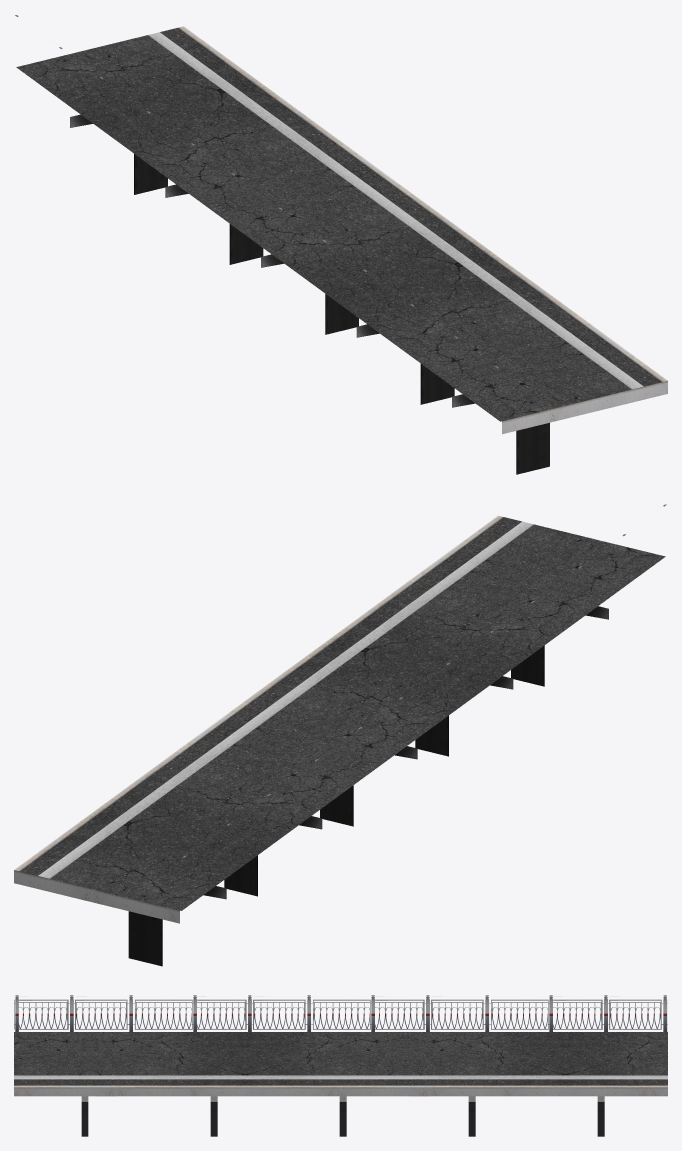
The model's file is platform_uz_L20_zab.gltf.
3 renders of one model, top to bottom at view 1: azimuth 30°, elevation 25°; view 2: azimuth 150°, elevation 25°; view 3: azimuth 270°, elevation 25°, orthographic. The views are drawn at different scales.
Bounding box in the file's own units: 4.05 × 3.62 × 20.
1 material, 1 textured.
